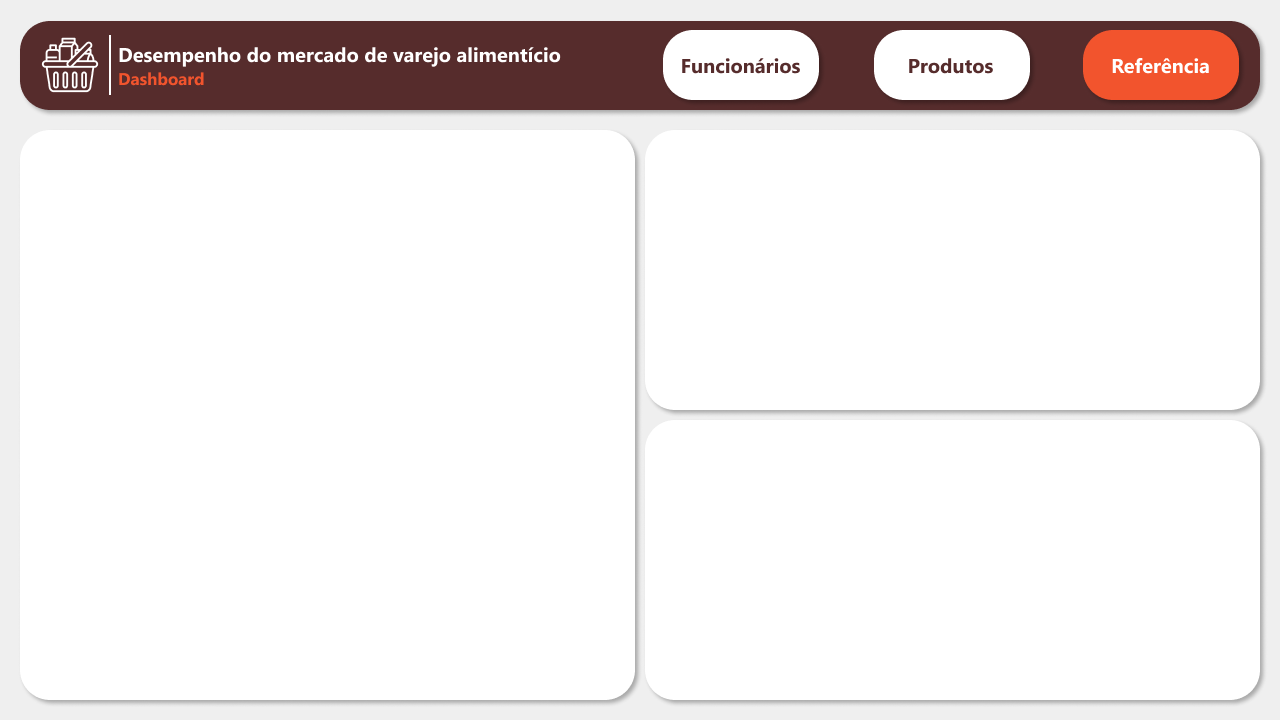

The page's visual inventory and layout, read from the dashboard file:
{"tool":"powerbi","page":{"name":"Referencia","canvas":[1280,720],"ordinal":3},"visuals":[{"type":"actionButton","box":[872.8,26.7,156.7,73.9],"z":0},{"type":"actionButton","box":[663.3,26.9,155.9,73.7],"z":1000},{"type":"textbox","title":"Créditos","box":[645.8,418.3,615,62.5],"z":2000},{"type":"image","box":[662.9,500,88.6,82.9],"z":3000},{"type":"image","box":[662.9,582.9,88.6,101.4],"z":4000},{"type":"textbox","box":[751.2,515.9,438,49.6],"z":5000},{"type":"textbox","box":[751.2,608,249.4,51],"z":6000},{"type":"actionButton","box":[663.7,500.2,402.8,81.7],"z":7000},{"type":"actionButton","box":[663.7,597.7,227.9,73.1],"z":8000},{"type":"textbox","title":"Referência","box":[645.7,125.7,615.7,62.9],"z":9000},{"type":"textbox","title":"Descrição das variáveis","box":[20,126,615,63],"z":10000},{"type":"textbox","box":[646.4,180.9,615.5,217.3],"z":11000},{"type":"textbox","box":[19.8,188.5,615.1,496.1],"z":12000},{"type":"actionButton","box":[32.6,26.9,78,73.7],"z":13000}]}

Visuals, with their boxes in screenshot pixels (x1, y1, x2, y2), scaled from the page's 1280x720 canvas onto the 1280x720 screenshot:
actionButton: (873,27,1030,101)
actionButton: (663,27,819,101)
"Créditos" textbox: (646,418,1261,481)
image: (663,500,752,583)
image: (663,583,752,684)
textbox: (751,516,1189,566)
textbox: (751,608,1001,659)
actionButton: (664,500,1066,582)
actionButton: (664,598,892,671)
"Referência" textbox: (646,126,1261,189)
"Descrição das variáveis" textbox: (20,126,635,189)
textbox: (646,181,1262,398)
textbox: (20,188,635,685)
actionButton: (33,27,111,101)
